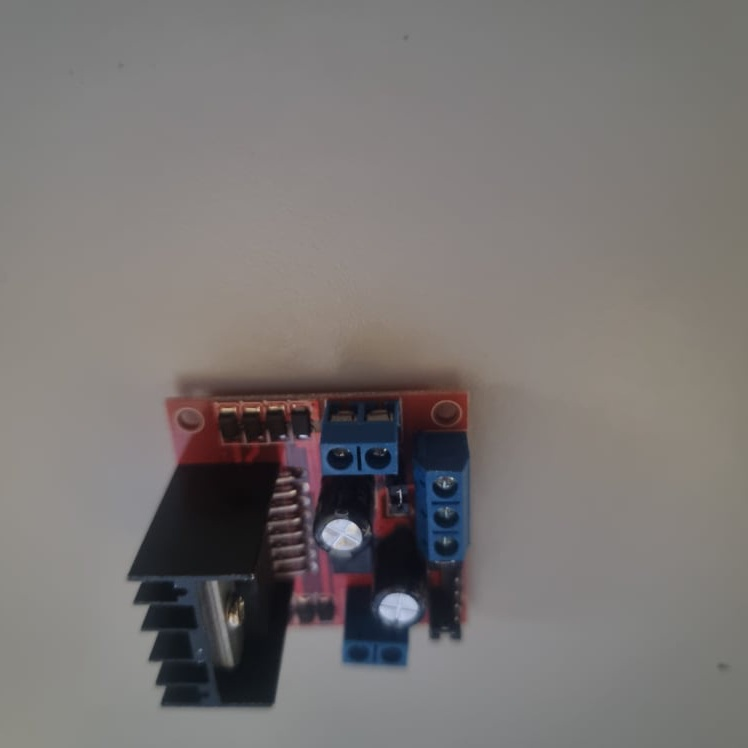MOTOR: (125, 391, 475, 707)
